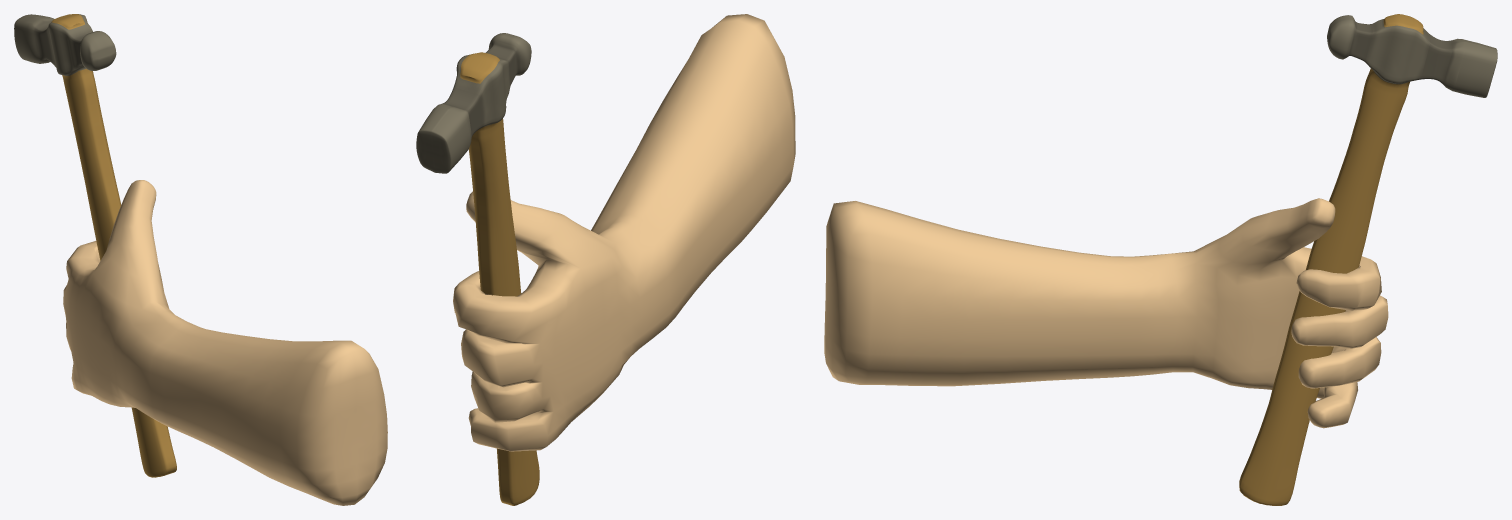
The model's file is hand_with_hammer_L.fbx.
3 renders of one model, left to right at view 1: azimuth 30°, elevation 25°; view 2: azimuth 150°, elevation 25°; view 3: azimuth 270°, elevation 25°, orthographic. The views are drawn at different scales.
Visible parts, largest first — view 1: pasted__pasted__pCube2; view 2: pasted__pasted__pCube2; view 3: pasted__pasted__pCube2.
Boxes of the visible parts, x1=… form: pasted__pasted__pCube2: x1=14, y1=14, x2=387, y2=505; pasted__pasted__pCube2: x1=416, y1=14, x2=795, y2=505; pasted__pasted__pCube2: x1=824, y1=14, x2=1497, y2=505.
Bounding box in the file's own units: 2.77 × 9.61 × 12.45.
2 materials, 2 textured.
